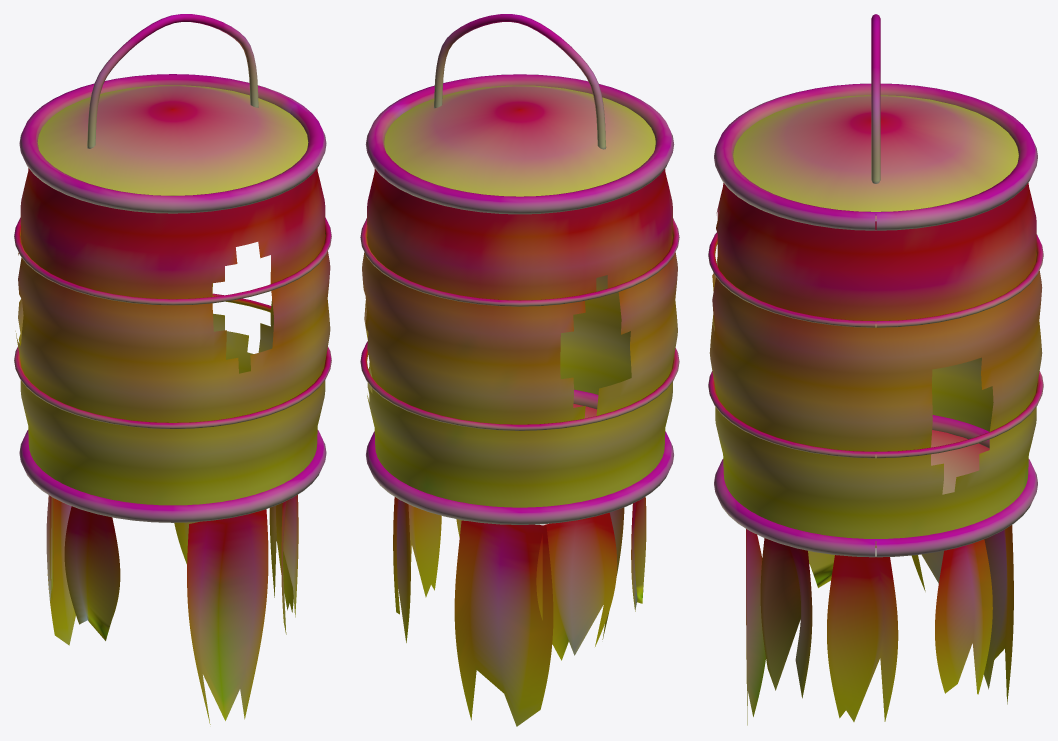
Rendered from husk_lanternShade.glb.
3 renders of one model, left to right at view 1: azimuth 30°, elevation 25°; view 2: azimuth 150°, elevation 25°; view 3: azimuth 270°, elevation 25°, orthographic. The views are drawn at different scales.
Visible parts, largest first — view 1: paper, cap_top, strip_5, hoop_top, hoop_bottom, strip_4, rib_low, handle, rib_high, strip_2, strip_6, strip_0 (+1 smaller); view 2: paper, cap_top, strip_2, hoop_top, strip_3, hoop_bottom, handle, rib_high, rib_low, strip_0, strip_1, strip_4 (+1 smaller); view 3: paper, cap_top, hoop_top, strip_0, hoop_bottom, strip_1, strip_6, strip_2, rib_high, rib_low, strip_5, cap_bottom (+3 smaller).
Boxes of the visible parts, bbox=[...] form: paper: bbox=[15, 168, 330, 505]; cap_top: bbox=[37, 85, 308, 195]; strip_5: bbox=[187, 509, 268, 724]; hoop_top: bbox=[19, 74, 326, 213]; hoop_bottom: bbox=[19, 430, 326, 522]; strip_4: bbox=[64, 506, 120, 640]; rib_low: bbox=[14, 293, 331, 429]; handle: bbox=[87, 14, 258, 148]; rib_high: bbox=[14, 217, 331, 305]; strip_2: bbox=[47, 495, 75, 645]; strip_6: bbox=[281, 495, 298, 634]; strip_0: bbox=[269, 503, 293, 612]; paper: bbox=[362, 168, 677, 507]; cap_top: bbox=[384, 85, 655, 196]; strip_2: bbox=[454, 520, 553, 726]; hoop_top: bbox=[365, 74, 674, 214]; strip_3: bbox=[536, 512, 617, 660]; hoop_bottom: bbox=[366, 389, 673, 524]; handle: bbox=[433, 14, 606, 149]; rib_high: bbox=[360, 218, 679, 306]; rib_low: bbox=[360, 341, 679, 430]; strip_0: bbox=[408, 504, 441, 597]; strip_1: bbox=[393, 497, 410, 642]; strip_4: bbox=[631, 497, 646, 611]; paper: bbox=[709, 183, 1042, 547]; cap_top: bbox=[733, 95, 1018, 218]; hoop_top: bbox=[714, 83, 1037, 230]; strip_0: bbox=[827, 555, 898, 721]; hoop_bottom: bbox=[714, 415, 1037, 557]; strip_1: bbox=[935, 539, 992, 694]; strip_6: bbox=[760, 538, 812, 698]; strip_2: bbox=[983, 525, 1013, 704]; rib_high: bbox=[708, 232, 1043, 327]; rib_low: bbox=[708, 371, 1043, 458]; strip_5: bbox=[746, 529, 765, 725]; cap_bottom: bbox=[931, 430, 989, 494].
Bounding box in the file's own units: 0.6705 × 1.54 × 0.6705.
